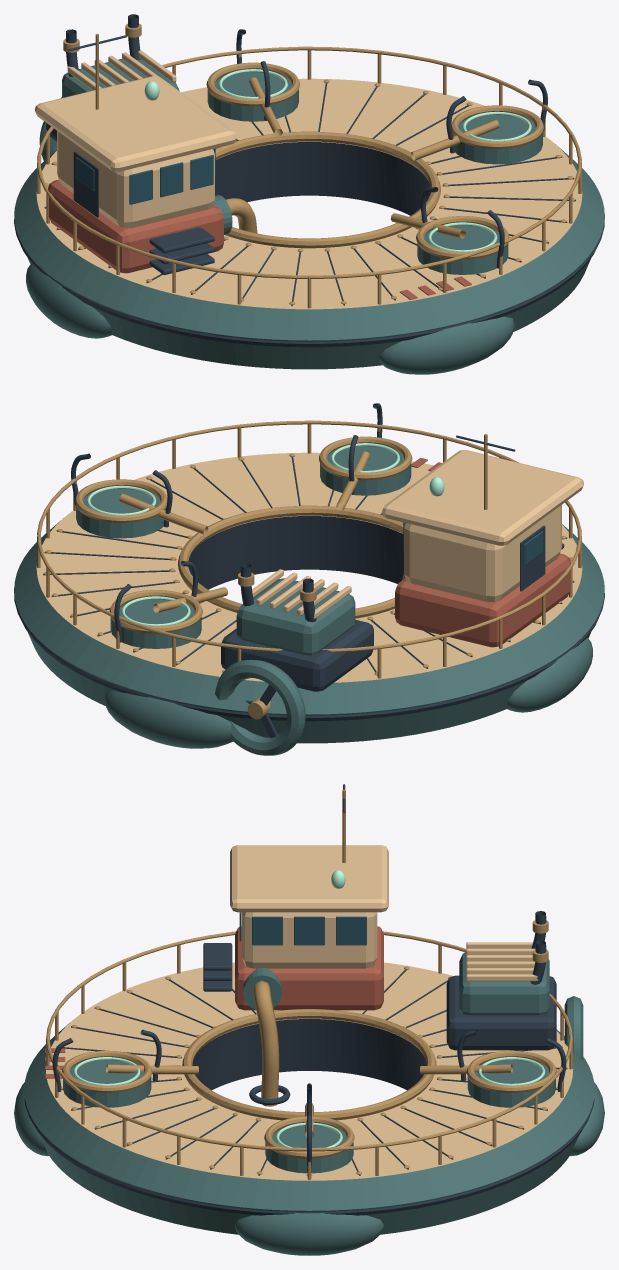
Rendered from harvester.glb.
The picture shows the model from 3 angles, top to bottom: view 1: azimuth 30°, elevation 25°; view 2: azimuth 150°, elevation 25°; view 3: azimuth 270°, elevation 25°; orthographic projection. The views are drawn at different scales.
Visible parts, largest first — view 1: Annular_working_deck, Wheelhouse_roof, Wheelhouse_body, Wheelhouse_lower, Perimeter_lifeline, Float_sponson.003, Inside_safety_lip, Outer_rubbing_strake, Float_sponson.002, Grav_cradle_1, Grav_cradle_2, Grav_cradle_0 (+17 smaller); view 2: Annular_working_deck, Wheelhouse_roof, Wheelhouse_body, Wheelhouse_lower, Engine_block, Perimeter_lifeline, Float_sponson.001, Engine_cradle, Engine_duct, Inside_safety_lip, Outer_rubbing_strake, Float_sponson.002 (+13 smaller); view 3: Annular_working_deck, Wheelhouse_roof, Wheelhouse_lower, Inside_safety_lip, Float_sponson, Wheelhouse_body, Engine_cradle, Perimeter_lifeline, Engine_block, Outer_rubbing_strake, Grav_cradle_1, Grav_cradle_0 (+15 smaller).
Boxes of the visible parts, left/top/right/bottom form: Annular_working_deck: left=14, top=78, right=604, bottom=369; Wheelhouse_roof: left=35, top=76, right=236, bottom=171; Wheelhouse_body: left=57, top=131, right=214, bottom=228; Wheelhouse_lower: left=48, top=179, right=223, bottom=273; Perimeter_lifeline: left=37, top=46, right=581, bottom=278; Float_sponson.003: left=379, top=316, right=514, bottom=374; Inside_safety_lip: left=215, top=131, right=440, bottom=248; Outer_rubbing_strake: left=14, top=211, right=604, bottom=347; Float_sponson.002: left=26, top=263, right=111, bottom=338; Grav_cradle_1: left=452, top=115, right=542, bottom=164; Grav_cradle_2: left=207, top=72, right=298, bottom=121; Grav_cradle_0: left=417, top=225, right=508, bottom=274; Annular_working_deck: left=14, top=452, right=604, bottom=743; Wheelhouse_roof: left=382, top=450, right=583, bottom=545; Wheelhouse_body: left=404, top=505, right=561, bottom=602; Wheelhouse_lower: left=395, top=553, right=570, bottom=647; Engine_block: left=236, top=578, right=355, bottom=655; Perimeter_lifeline: left=37, top=420, right=581, bottom=652; Float_sponson.001: left=104, top=690, right=232, bottom=748; Engine_cradle: left=221, top=619, right=373, bottom=691; Engine_duct: left=215, top=659, right=305, bottom=755; Inside_safety_lip: left=178, top=505, right=403, bottom=618; Outer_rubbing_strake: left=14, top=585, right=604, bottom=721; Float_sponson.002: left=507, top=637, right=592, bottom=712; Annular_working_deck: left=24, top=962, right=594, bottom=1234; Wheelhouse_roof: left=230, top=845, right=388, bottom=912; Wheelhouse_lower: left=235, top=926, right=383, bottom=1010; Inside_safety_lip: left=182, top=1009, right=436, bottom=1120; Float_sponson: left=234, top=1213, right=384, bottom=1255; Wheelhouse_body: left=241, top=912, right=377, bottom=968; Engine_cradle: left=446, top=975, right=556, bottom=1050; Perimeter_lifeline: left=46, top=931, right=572, bottom=1151; Engine_block: left=459, top=952, right=549, bottom=1015; Outer_rubbing_strake: left=24, top=1092, right=594, bottom=1215; Grav_cradle_1: left=265, top=1125, right=353, bottom=1173; Grav_cradle_0: left=63, top=1060, right=151, bottom=1107.
Bounding box in the file's own units: 8.18 × 3.97 × 8.18.
